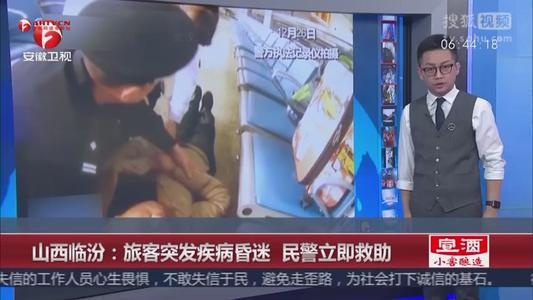falling: (114, 74, 242, 230)
